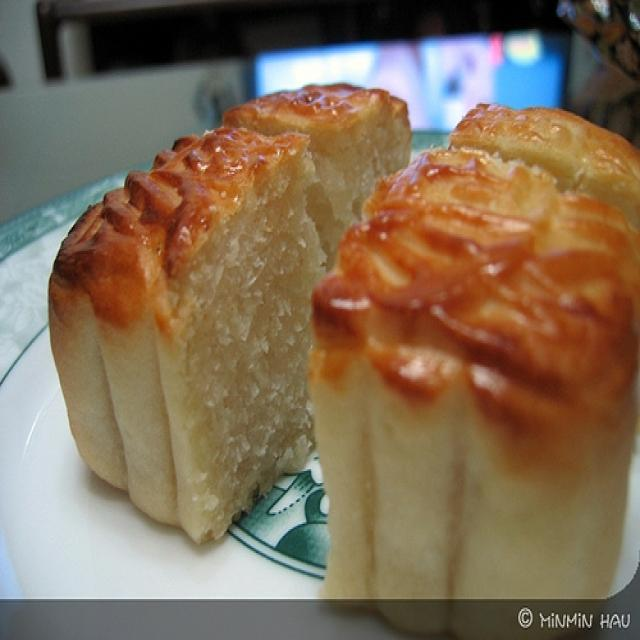蛋糕甜品: (18, 60, 626, 604)
